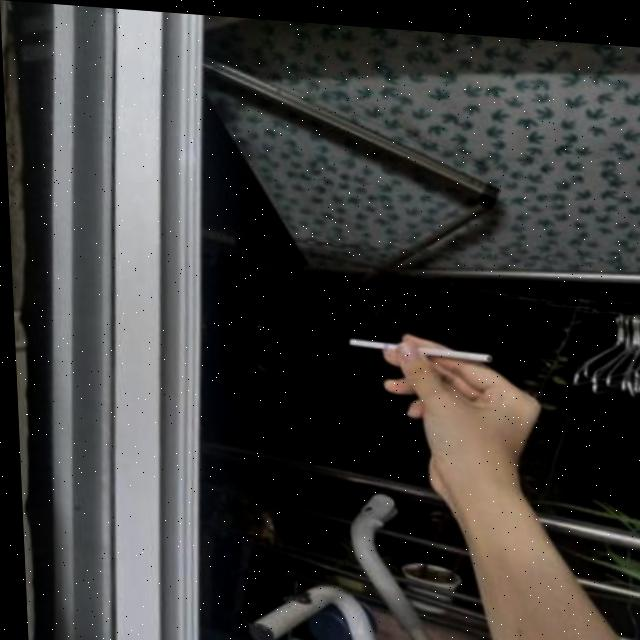cigarette: (345, 333, 491, 356)
